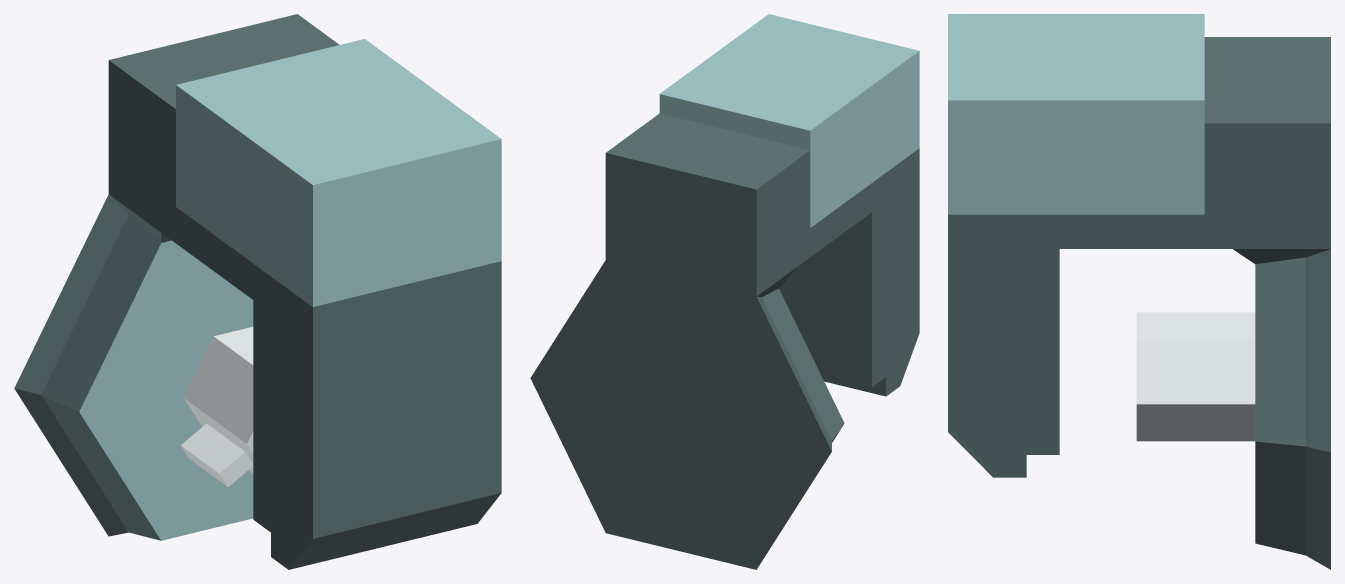
File: coffee-machine.obj
3 views of the same model, side by side, from view 1: azimuth 30°, elevation 25°; view 2: azimuth 150°, elevation 25°; view 3: azimuth 270°, elevation 25° (orthographic). The views are drawn at different scales.
Visible parts, largest first — view 1: coffee-machine; view 2: coffee-machine; view 3: coffee-machine.
Boxes of the visible parts, <box> form: coffee-machine: <box>14,14,501,569</box>; coffee-machine: <box>530,14,919,569</box>; coffee-machine: <box>948,14,1330,569</box>.
Size of the model in its own units: 14.95 by 18.94 by 14.
